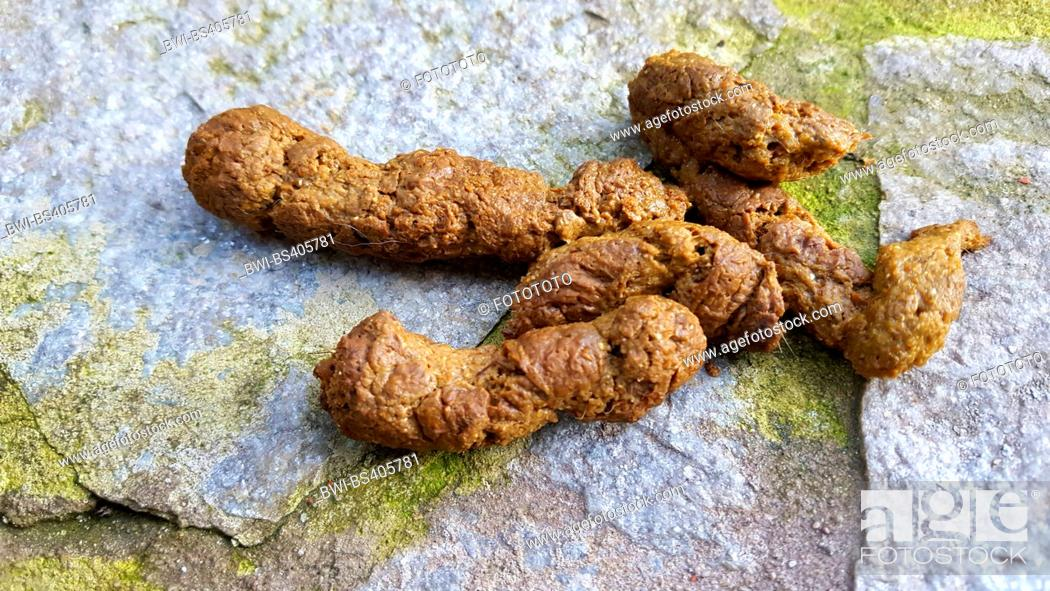Dog: (188, 67, 957, 453)
